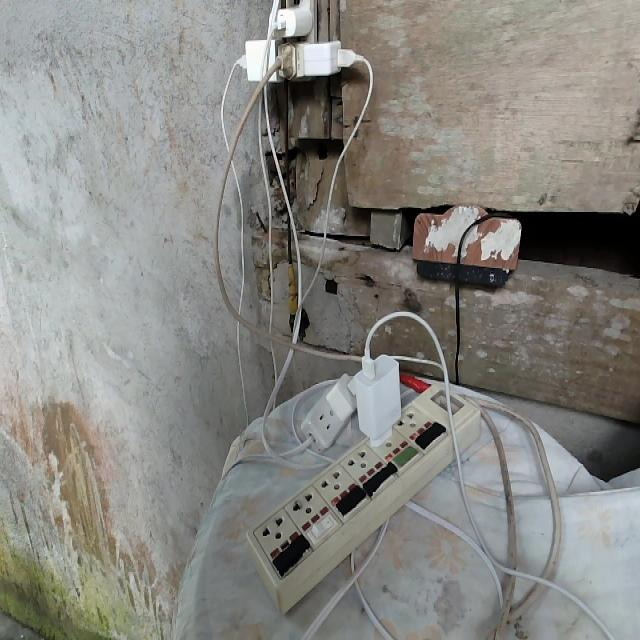-: (233, 0, 360, 85)
